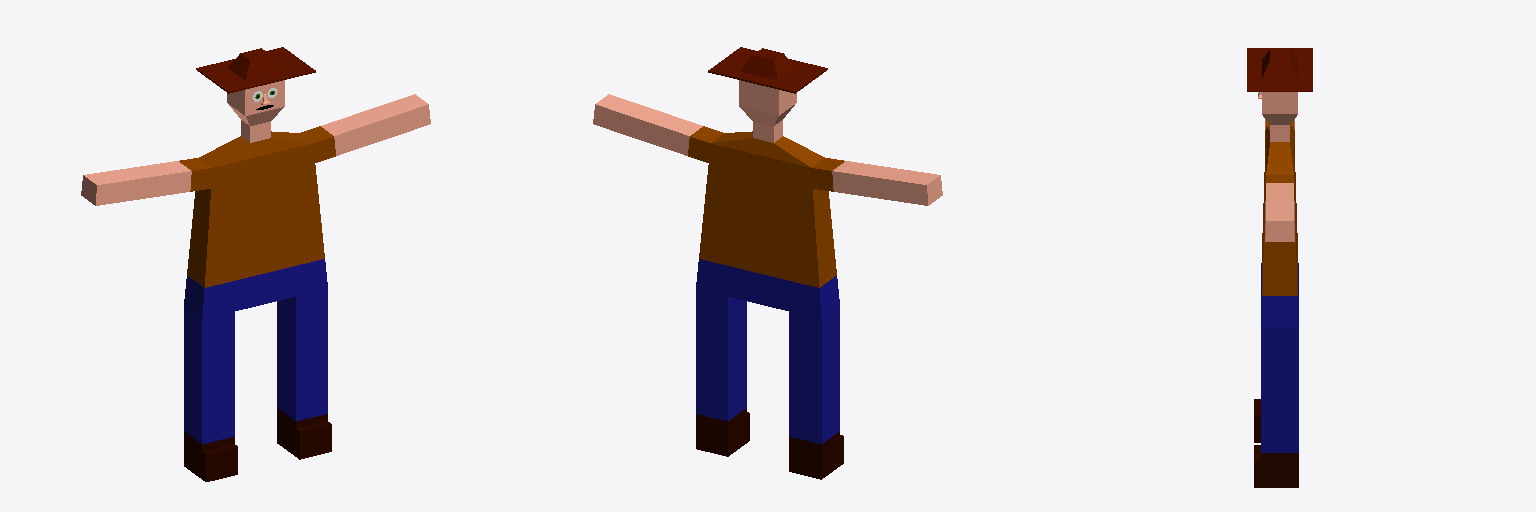
Rendered from hombre.obj.
3 views of the same model, side by side, from view 1: azimuth 30°, elevation 25°; view 2: azimuth 150°, elevation 25°; view 3: azimuth 270°, elevation 25° (orthographic).
Visible parts, largest first — view 1: Mesh2 Torso1 Model, Mesh1 leg1 Model, Mesh3 leg2 Model, Mesh11 arm2 Model, Mesh10 arm1 Model, Mesh6 hat1 Model, Mesh7 head1 Model; view 2: Mesh2 Torso1 Model, Mesh1 leg1 Model, Mesh3 leg2 Model, Mesh11 arm2 Model, Mesh10 arm1 Model, Mesh6 hat1 Model, Mesh7 head1 Model; view 3: Mesh3 leg2 Model, Mesh2 Torso1 Model, Mesh6 hat1 Model, Mesh10 arm1 Model, Mesh7 head1 Model.
Part boxes in pixels (bbox=[...]): Mesh2 Torso1 Model: bbox=[184, 120, 327, 318]; Mesh1 leg1 Model: bbox=[184, 306, 237, 481]; Mesh3 leg2 Model: bbox=[277, 289, 331, 459]; Mesh11 arm2 Model: bbox=[81, 158, 212, 205]; Mesh10 arm1 Model: bbox=[300, 94, 430, 162]; Mesh6 hat1 Model: bbox=[196, 47, 315, 93]; Mesh7 head1 Model: bbox=[227, 80, 284, 125]; Mesh2 Torso1 Model: bbox=[696, 120, 839, 318]; Mesh1 leg1 Model: bbox=[789, 306, 843, 479]; Mesh3 leg2 Model: bbox=[696, 289, 749, 456]; Mesh11 arm2 Model: bbox=[811, 158, 942, 205]; Mesh10 arm1 Model: bbox=[593, 94, 723, 162]; Mesh6 hat1 Model: bbox=[708, 47, 827, 93]; Mesh7 head1 Model: bbox=[739, 80, 796, 125]; Mesh3 leg2 Model: bbox=[1254, 328, 1298, 487]; Mesh2 Torso1 Model: bbox=[1261, 125, 1298, 327]; Mesh6 hat1 Model: bbox=[1247, 48, 1312, 91]; Mesh10 arm1 Model: bbox=[1265, 175, 1294, 241]; Mesh7 head1 Model: bbox=[1262, 92, 1297, 124].
Bounding box in the file's own units: 2.08 × 2.39 × 0.3496.